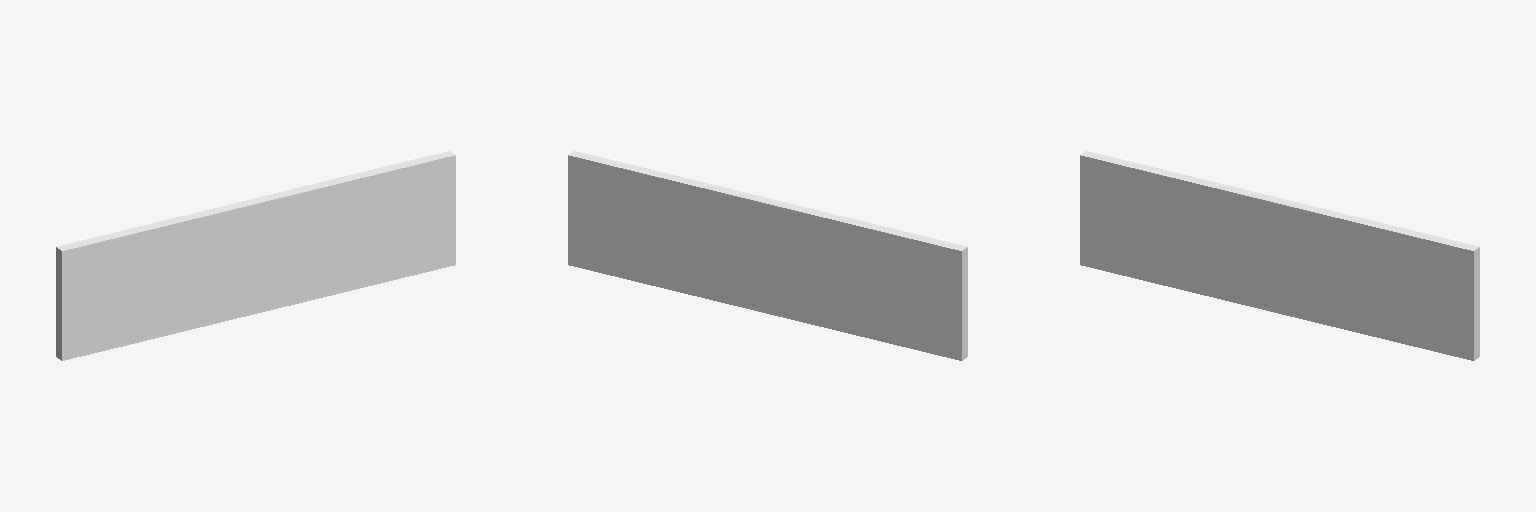
The model's file is setting.obj.
The picture shows the model from 3 angles: view 1: azimuth 30°, elevation 25°; view 2: azimuth 150°, elevation 25°; view 3: azimuth 330°, elevation 25°; orthographic projection.
Visible parts, largest first — view 1: object 1; view 2: object 1; view 3: object 1.
Part boxes in pixels (left/top/right/bottom): object 1: left=56, top=151, right=455, bottom=360; object 1: left=568, top=151, right=967, bottom=360; object 1: left=1080, top=151, right=1479, bottom=360.
Bounding box in the file's own units: 7.5 × 2 × 0.2.